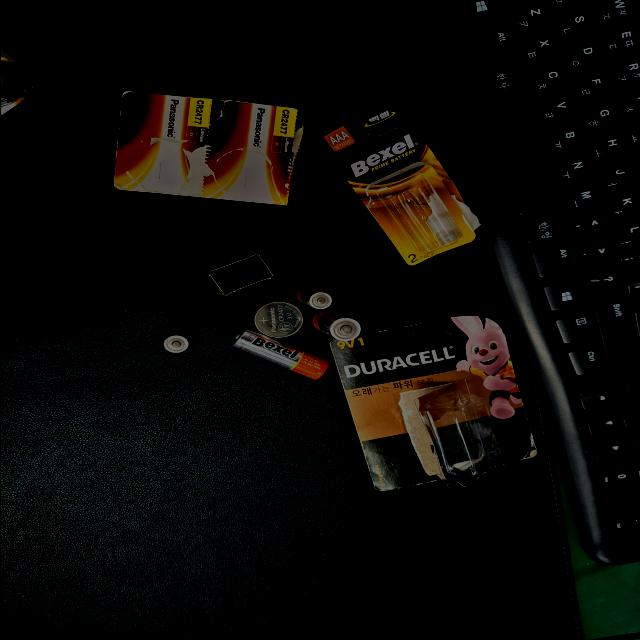9V: (246, 156, 302, 204)
AA: (134, 174, 202, 246), (186, 234, 226, 270)
AAA: (227, 222, 256, 248), (170, 122, 206, 142)
COIN: (188, 190, 238, 226)
